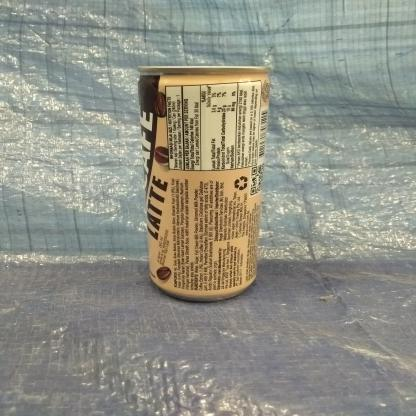mouse: (139, 61, 280, 299)
